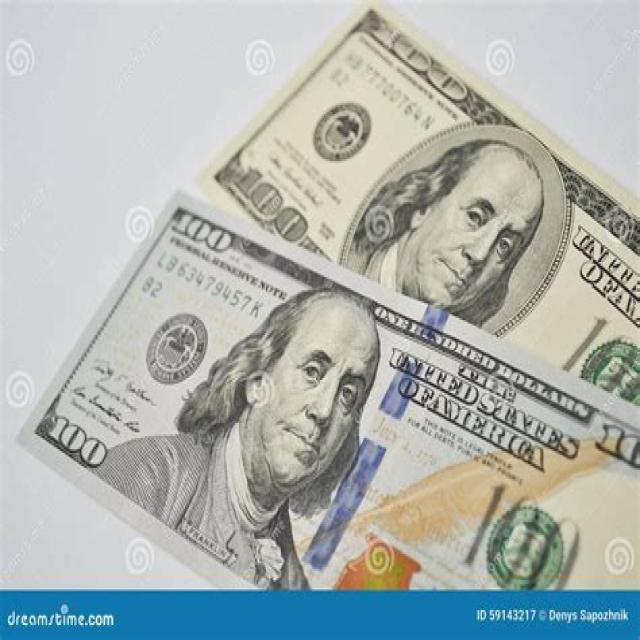Hundred: (20, 190, 640, 590), (194, 0, 640, 408)
